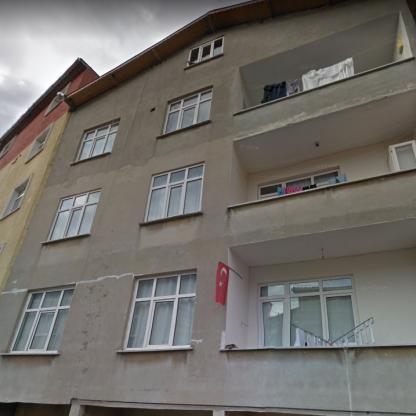window: (262, 277, 355, 346), (123, 273, 196, 347), (6, 288, 72, 352), (146, 162, 205, 220), (46, 190, 100, 241), (162, 87, 213, 134), (259, 170, 335, 198), (78, 122, 119, 160), (186, 36, 222, 66), (5, 184, 28, 214), (34, 136, 47, 153)
